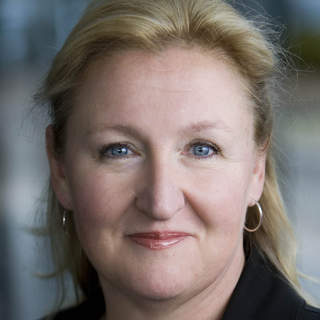eye: (96, 138, 147, 166), (179, 138, 227, 165)
